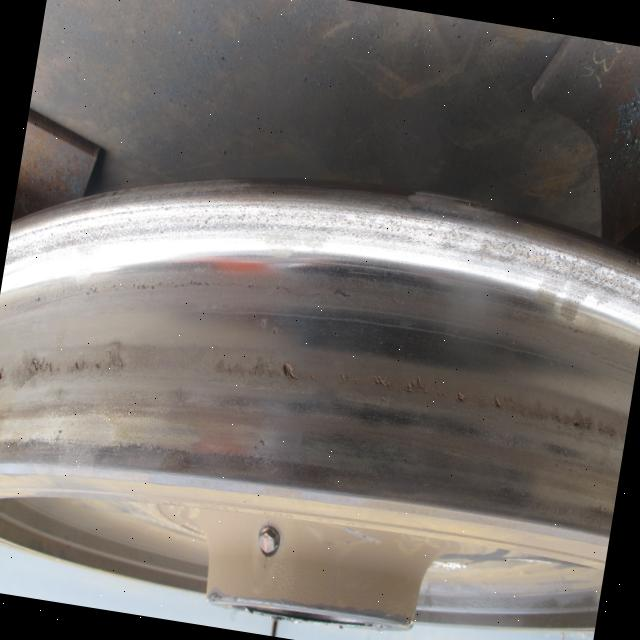Peeling: (282, 363, 302, 385), (404, 377, 425, 397), (375, 373, 390, 388), (456, 390, 470, 406), (32, 359, 44, 375), (492, 397, 505, 411), (571, 416, 583, 431), (74, 362, 82, 373), (1, 369, 6, 382)
